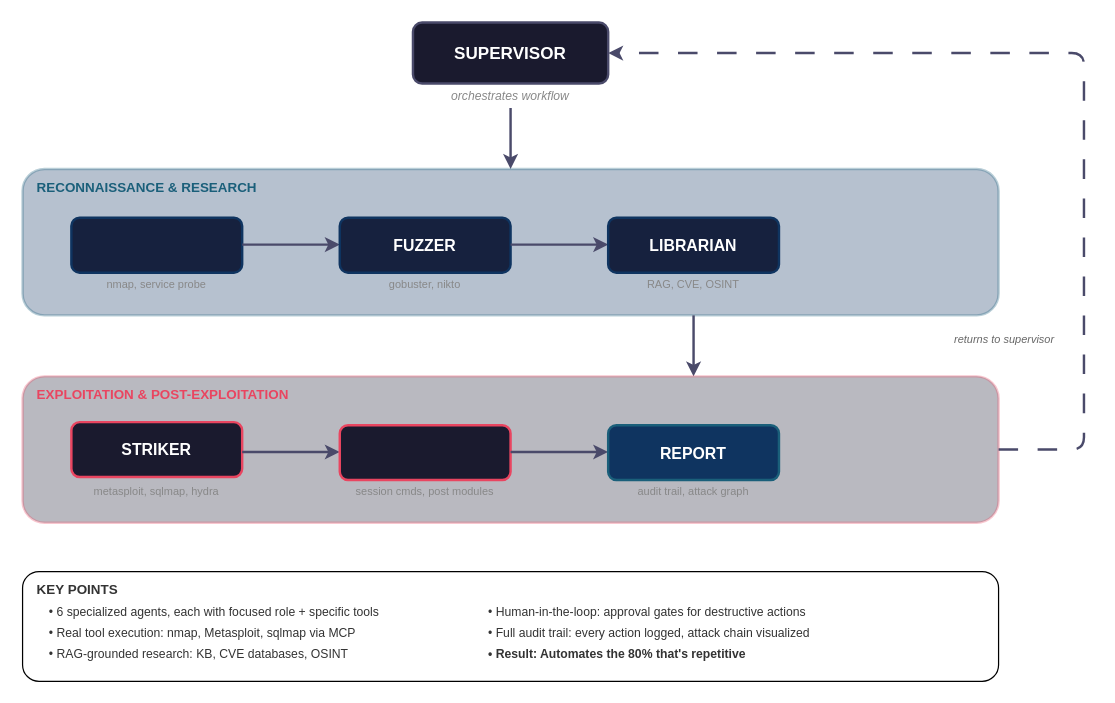
This 1115x703 diagram has some shape labels left out. Each missing label, with the box of its shape:
RESIDENT: (338, 423, 511, 481)
SCOUT: (70, 216, 243, 273)
